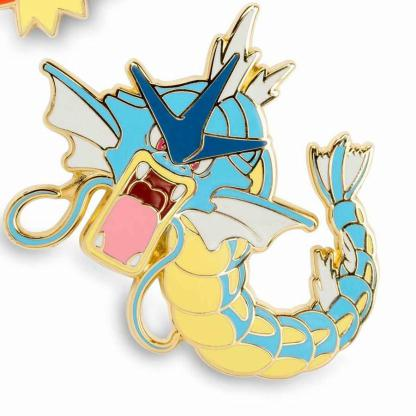Gyarados: (6, 32, 402, 384)
